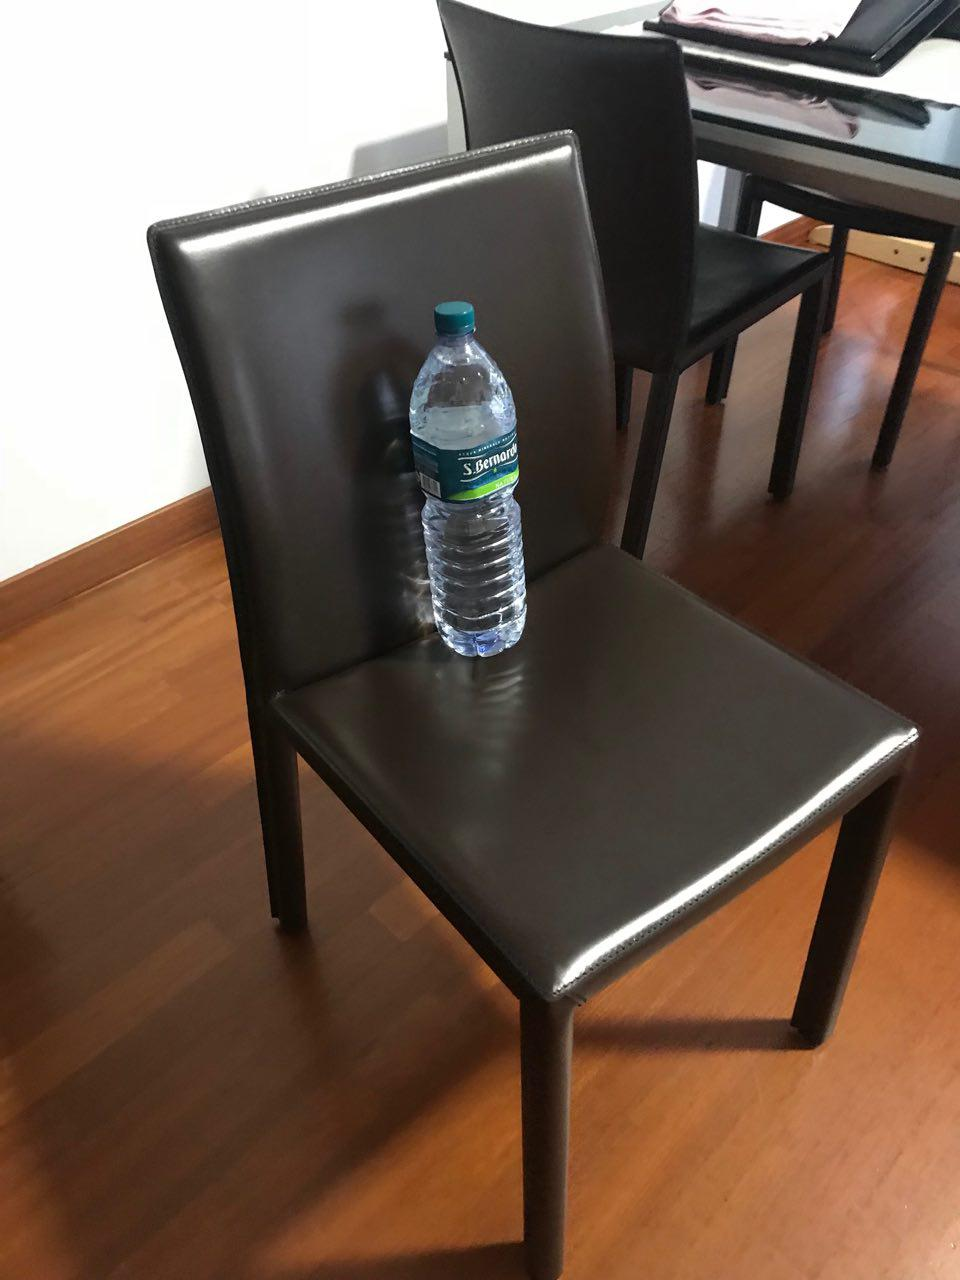san_bernardo: (408, 301, 526, 657)
